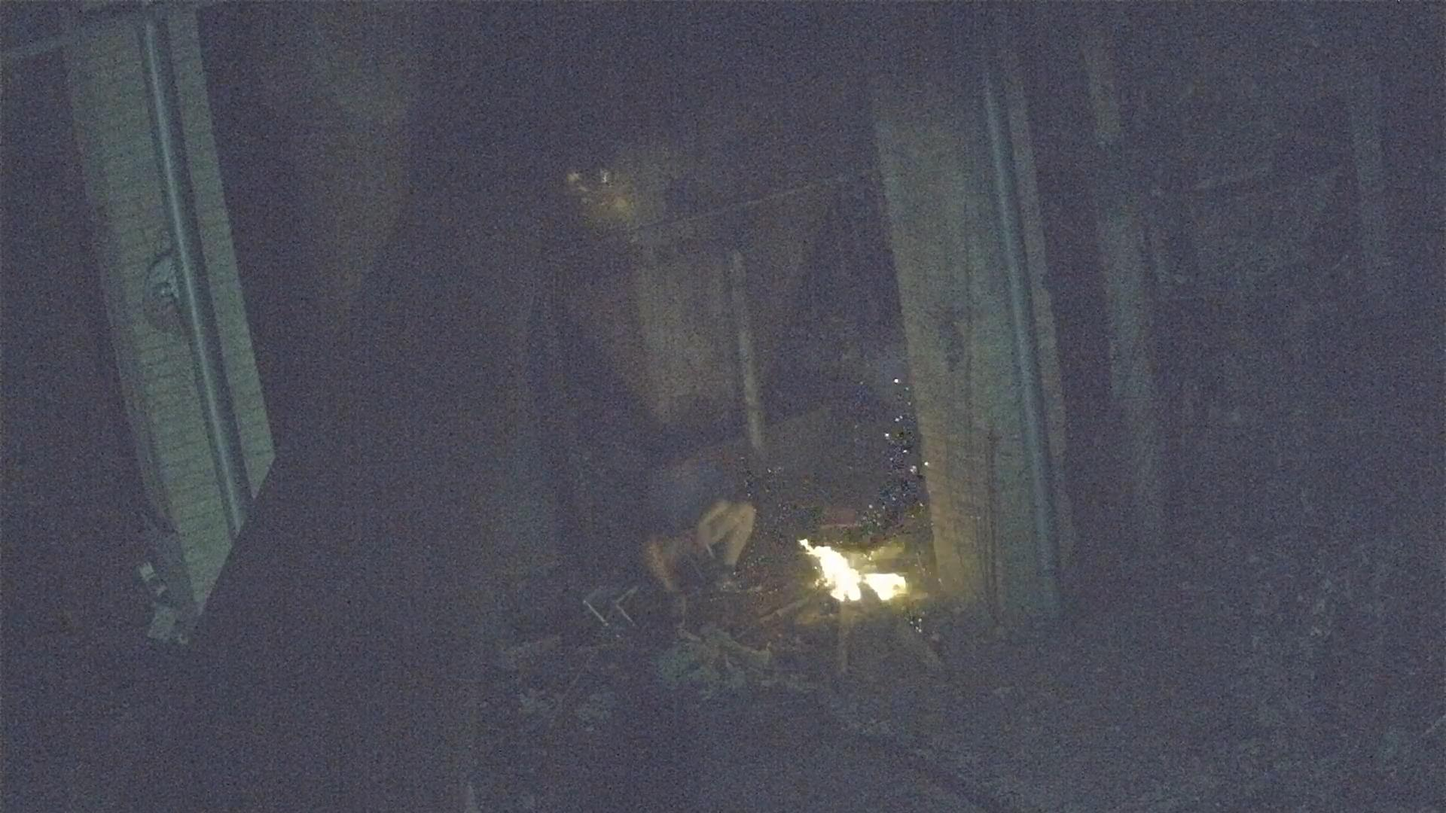fire: (807, 547, 907, 601)
